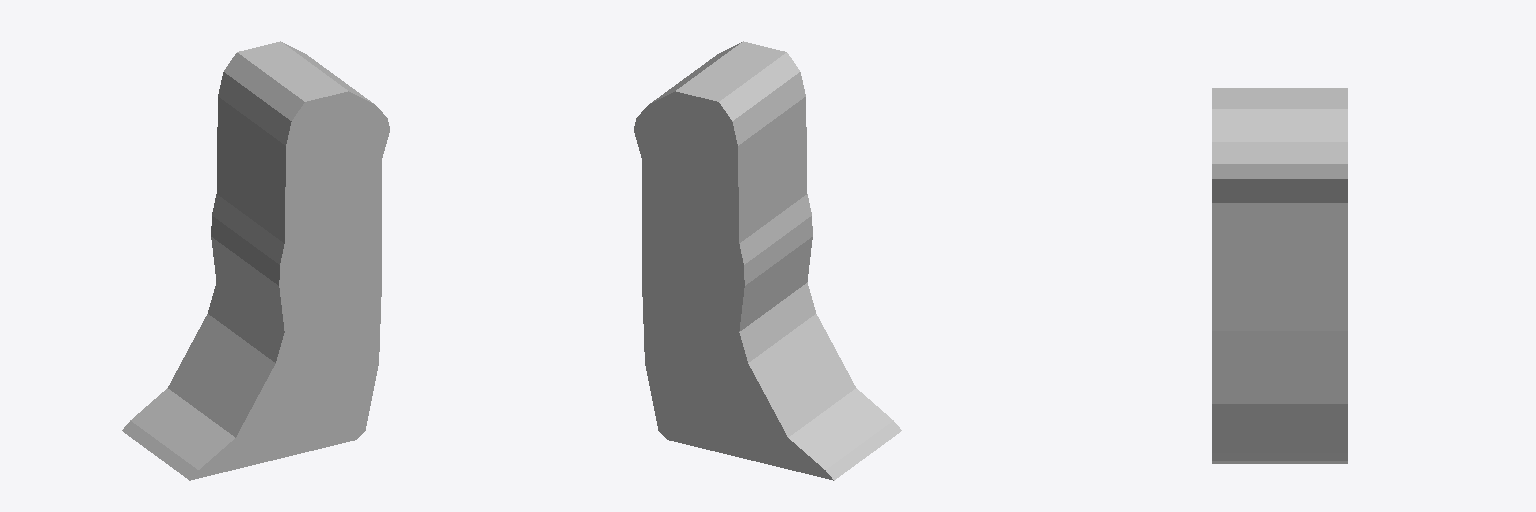
Rendered from Elsa.obj.
3 views of the same model, side by side, from view 1: azimuth 30°, elevation 25°; view 2: azimuth 150°, elevation 25°; view 3: azimuth 270°, elevation 25° (orthographic).
Parts seen in each view (by area): view 1: Cube.000_Cube.000; view 2: Cube.000_Cube.000; view 3: Cube.000_Cube.000.
Boxes of the visible parts, x1,y1,x2,y2 form: Cube.000_Cube.000: [122, 41, 389, 480]; Cube.000_Cube.000: [634, 41, 901, 480]; Cube.000_Cube.000: [1212, 88, 1347, 463].
Size of the model in its own units: 0.7713 by 1.29 by 0.4537.